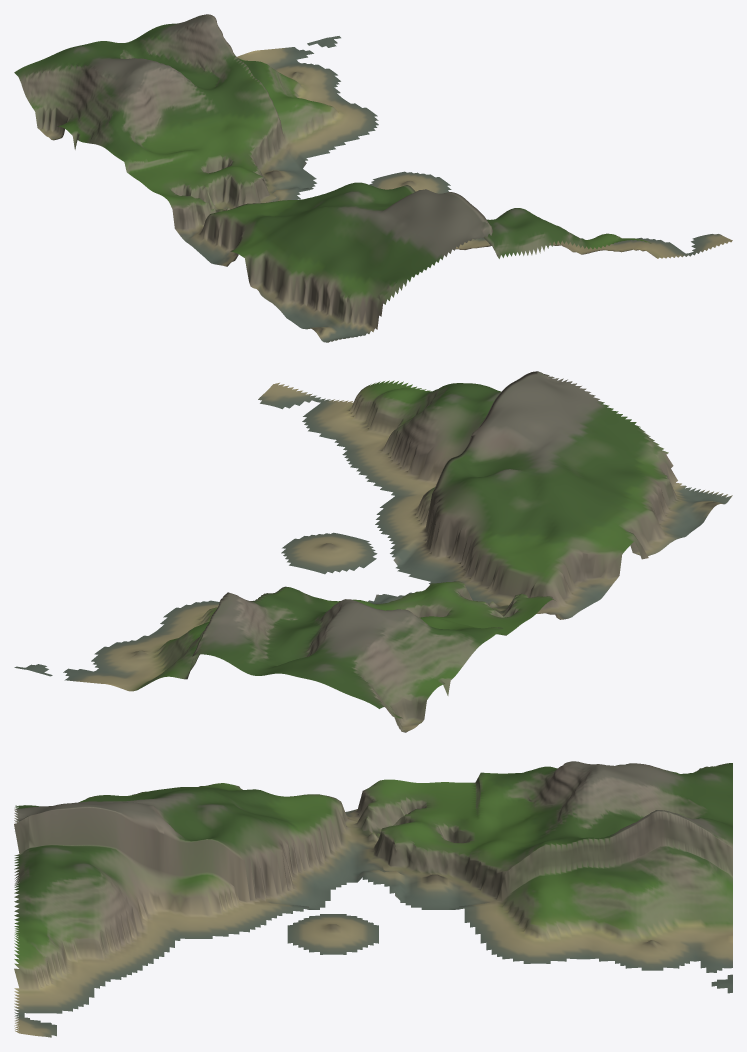
File: coast_tile_x1z1.glb
3 views of the same model, one above another, from view 1: azimuth 30°, elevation 25°; view 2: azimuth 150°, elevation 25°; view 3: azimuth 270°, elevation 25° (orthographic). The views are drawn at different scales.
Parts seen in each view (by area): view 1: coast_tile_x1z1; view 2: coast_tile_x1z1; view 3: coast_tile_x1z1.
Part boxes in pixels (left/top/right/bottom): coast_tile_x1z1: left=14, top=14, right=732, bottom=342; coast_tile_x1z1: left=14, top=371, right=732, bottom=732; coast_tile_x1z1: left=14, top=761, right=732, bottom=1037.
Size of the model in its own units: 602 by 126 by 804.
